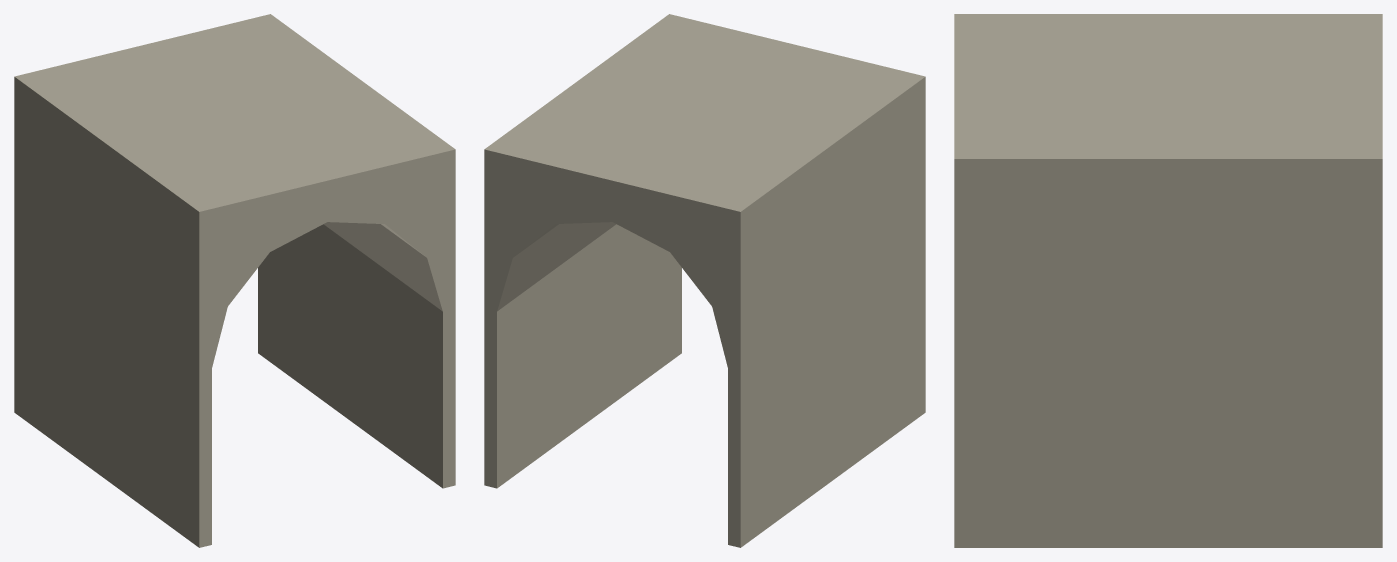
The model's file is victorian_stone_arch_1.fbx.
3 views of the same model, side by side, from view 1: azimuth 30°, elevation 25°; view 2: azimuth 150°, elevation 25°; view 3: azimuth 270°, elevation 25° (orthographic). The views are drawn at different scales.
Visible parts, largest first — view 1: Cube.263; view 2: Cube.263; view 3: Cube.263.
Part boxes in pixels (left/top/right/bottom): Cube.263: left=14, top=14, right=455, bottom=547; Cube.263: left=484, top=14, right=925, bottom=547; Cube.263: left=954, top=14, right=1382, bottom=547.
Size of the model in its own units: 240 by 301 by 300.
